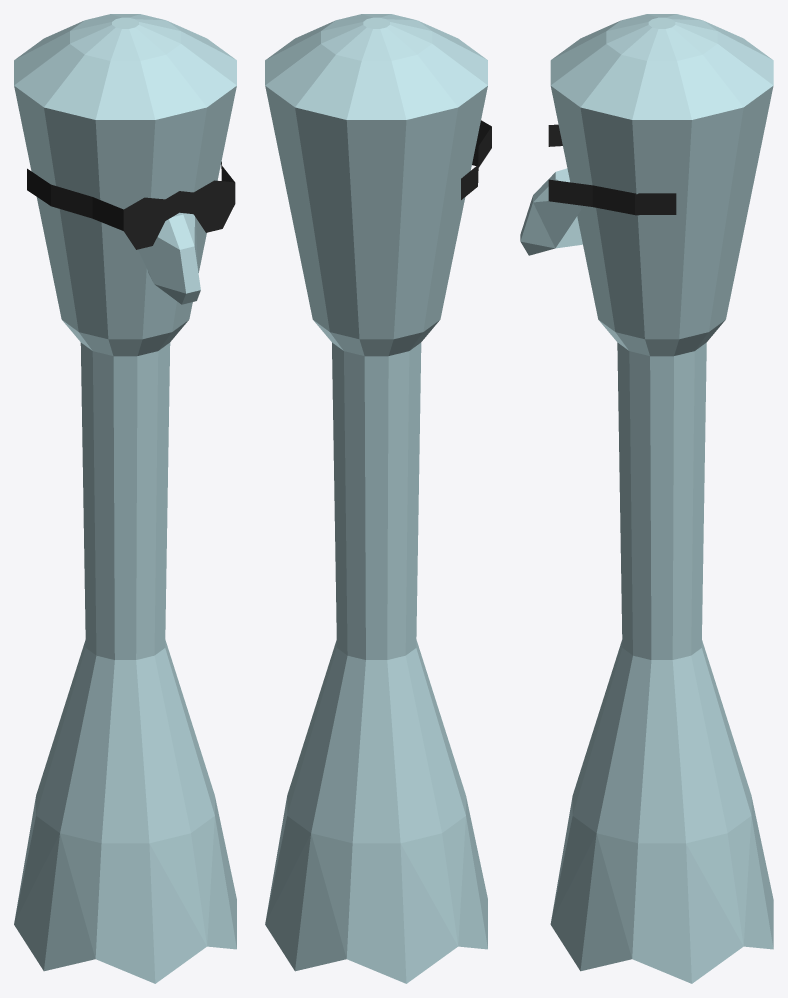
File: ghost_2.dae
3 renders of one model, left to right at view 1: azimuth 30°, elevation 25°; view 2: azimuth 150°, elevation 25°; view 3: azimuth 270°, elevation 25°, orthographic.
Parts seen in each view (by area): view 1: Cylinder, Plane, ghost_body; view 2: Cylinder, Plane; view 3: Cylinder, Plane, ghost_body.
Boxes of the visible parts, bbox=[...] form: Cylinder: bbox=[14, 14, 236, 983]; Plane: bbox=[27, 161, 235, 249]; ghost_body: bbox=[138, 212, 200, 304]; Cylinder: bbox=[265, 14, 487, 983]; Plane: bbox=[461, 120, 491, 199]; Cylinder: bbox=[550, 14, 773, 983]; Plane: bbox=[548, 124, 676, 215]; ghost_body: bbox=[520, 168, 582, 255].
Size of the model in its own units: 0.2693 by 0.3058 by 1.22.
